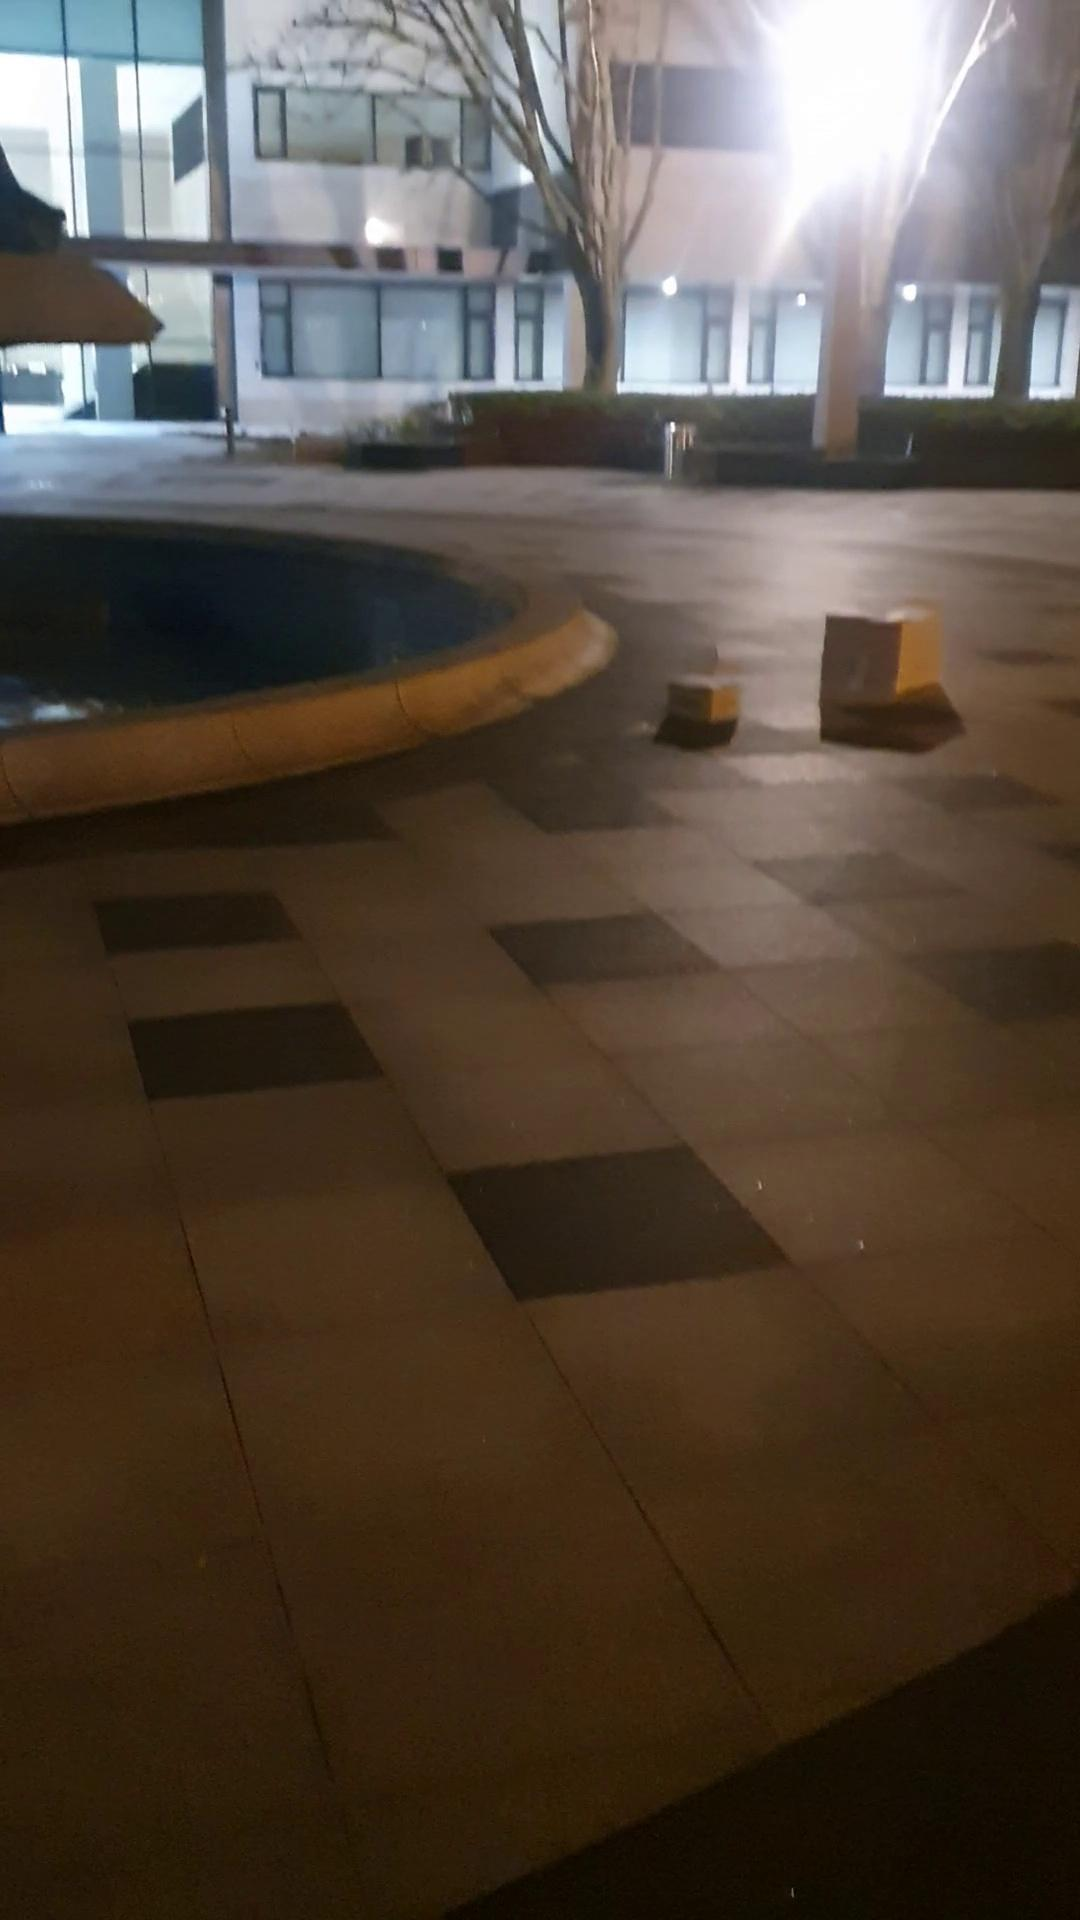Box: (818, 603, 944, 713), (669, 670, 752, 740)
